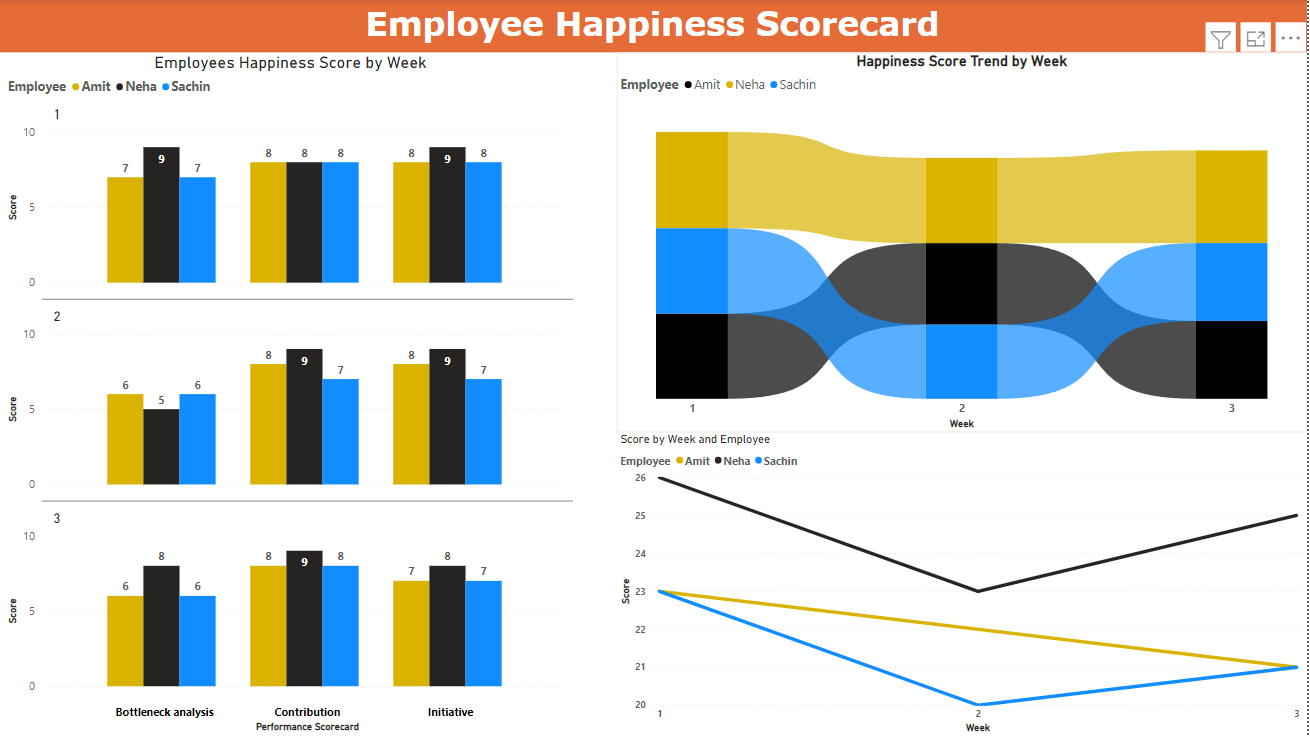

The page's visual inventory and layout, read from the dashboard file:
{"tool":"powerbi","page":{"name":"Happiness","canvas":[1920,1080],"ordinal":1},"visuals":[{"type":"clusteredColumnChart","title":"Employees Happiness Score by Week","fields":{"Category":["Performance Transformed.Performance Scorecard"],"Y":["Performance Transformed.Score"],"Rows":["Performance Transformed.Week"],"Series":["Performance Transformed.Employee"]},"box":[9.2,77,839.8,1003],"z":0},{"type":"textbox","box":[0,0,1919.8,77],"z":1},{"type":"ribbonChart","title":"Happiness Score Trend by Week","fields":{"Category":["Performance Transformed.Week"],"Y":["Performance Transformed.Score"],"Series":["Performance Transformed.Employee"]},"box":[907.6,77,1012.2,557.4],"z":2},{"type":"lineChart","fields":{"Category":["Performance Transformed.Week"],"Y":["Performance Transformed.Score"],"Series":["Performance Transformed.Employee"]},"box":[908,634,1012,446],"z":3}]}

Visuals, with their boxes on the page's 1920x1080 design canvas (x1, y1, x2, y2). These are canvas units, not pixel positions in the 1310x736 screenshot, which may show the page scaled, cropped or inside an application window:
"Employees Happiness Score by Week" clusteredColumnChart: BBox(9, 77, 849, 1080)
textbox: BBox(0, 0, 1920, 77)
"Happiness Score Trend by Week" ribbonChart: BBox(908, 77, 1920, 634)
lineChart - Performance Transformed.Week x Performance Transformed.Score: BBox(908, 634, 1920, 1080)
